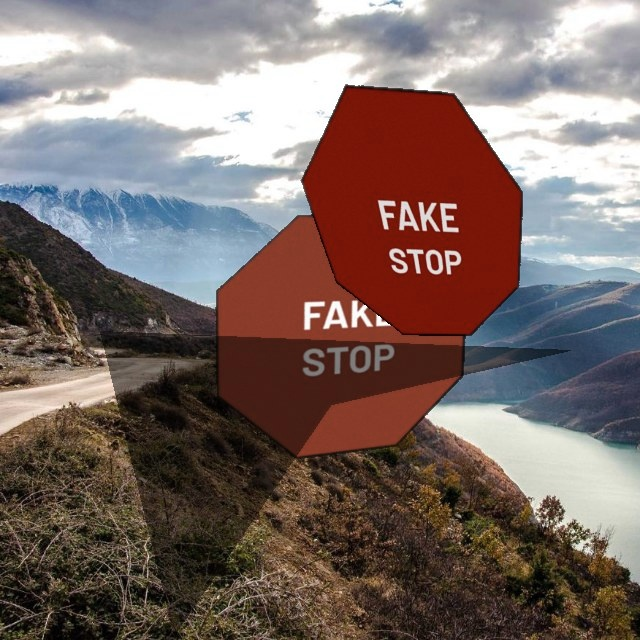FAKE_STOP: (215, 214, 467, 459), (300, 84, 523, 336)
